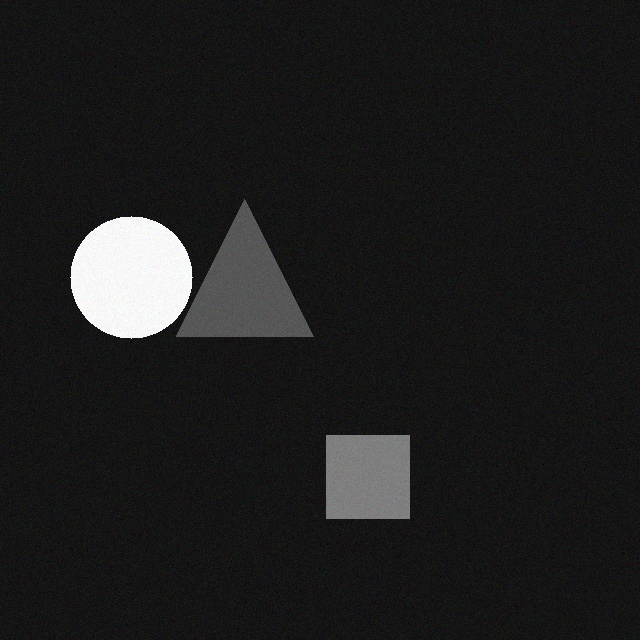circle: (74, 220, 196, 342)
square: (330, 439, 413, 522)
triangle: (180, 203, 317, 340)
